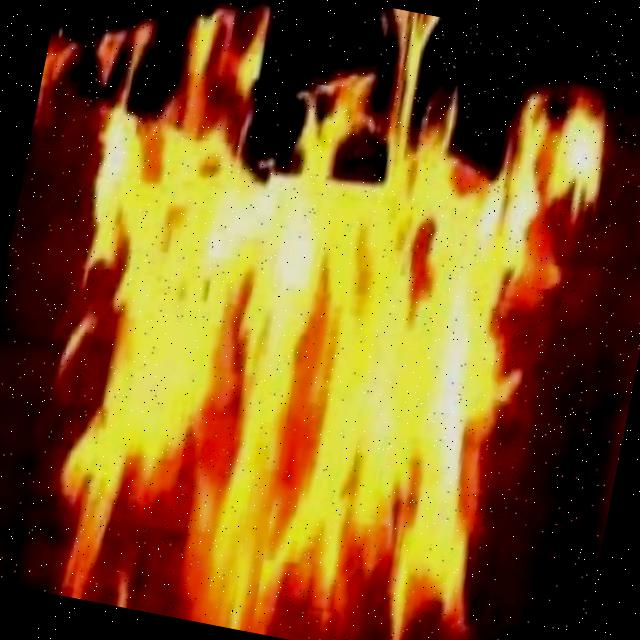fire: (28, 16, 624, 640)
